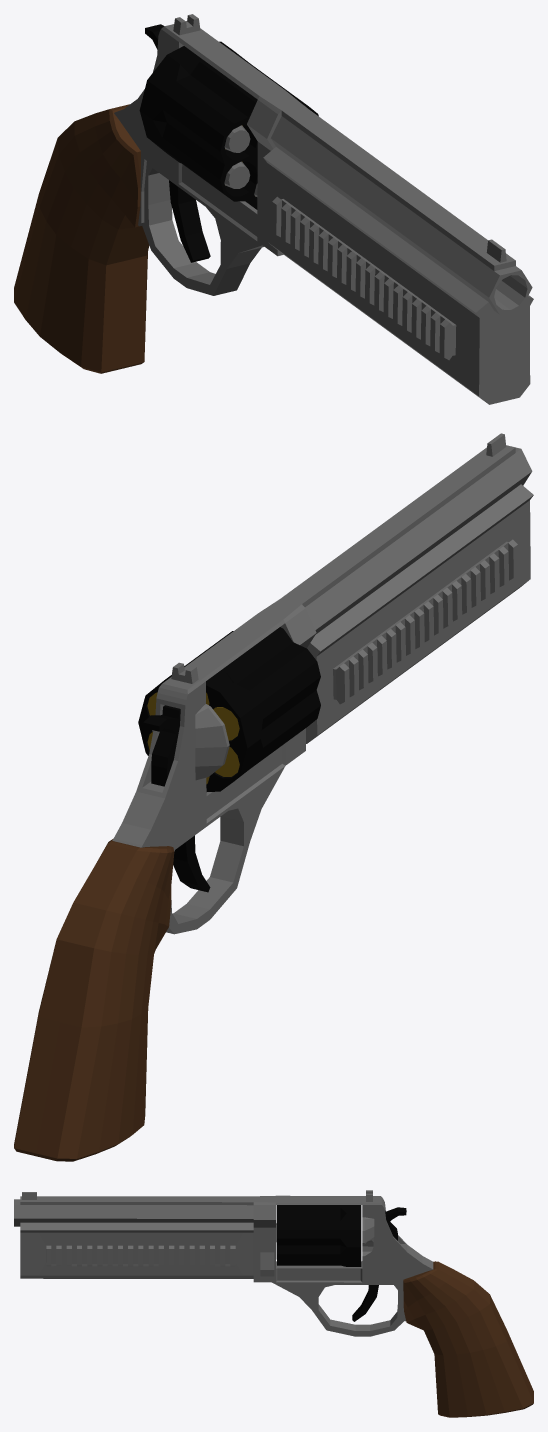
The model's file is Gun.fbx.
3 views of the same model, one above another, from view 1: azimuth 30°, elevation 25°; view 2: azimuth 150°, elevation 25°; view 3: azimuth 270°, elevation 25° (orthographic). The views are drawn at different scales.
Visible parts, largest first — view 1: Body, Handle, Drum, Trigger Guard, Trigger, Bullet.004, Bullet.005; view 2: Body, Handle, Drum, Trigger Guard, Hammer, Trigger; view 3: Body, Handle, Drum, Trigger Guard, Trigger, Drum Hinge, Hammer.
Boxes of the visible parts, x1,y1,x2,y2 form: Body: (114,14,533,404); Handle: (14,104,149,373); Drum: (139,41,318,209); Trigger Guard: (142,161,264,295); Trigger: (169,180,210,262); Bullet.004: (224,161,250,188); Bullet.005: (224,125,250,152); Body: (112,433,533,847); Handle: (14,839,174,1161); Drum: (138,627,320,791); Trigger Guard: (166,766,285,934); Hammer: (143,705,180,786); Trigger: (173,835,210,892); Body: (14,1190,433,1321); Handle: (403,1261,533,1417); Drum: (276,1205,361,1266); Trigger Guard: (272,1282,403,1336); Trigger: (352,1285,378,1321); Drum Hinge: (260,1223,276,1276); Hammer: (385,1207,406,1240).
Size of the model in its own units: 0.0425 by 0.1485 by 0.3207.
